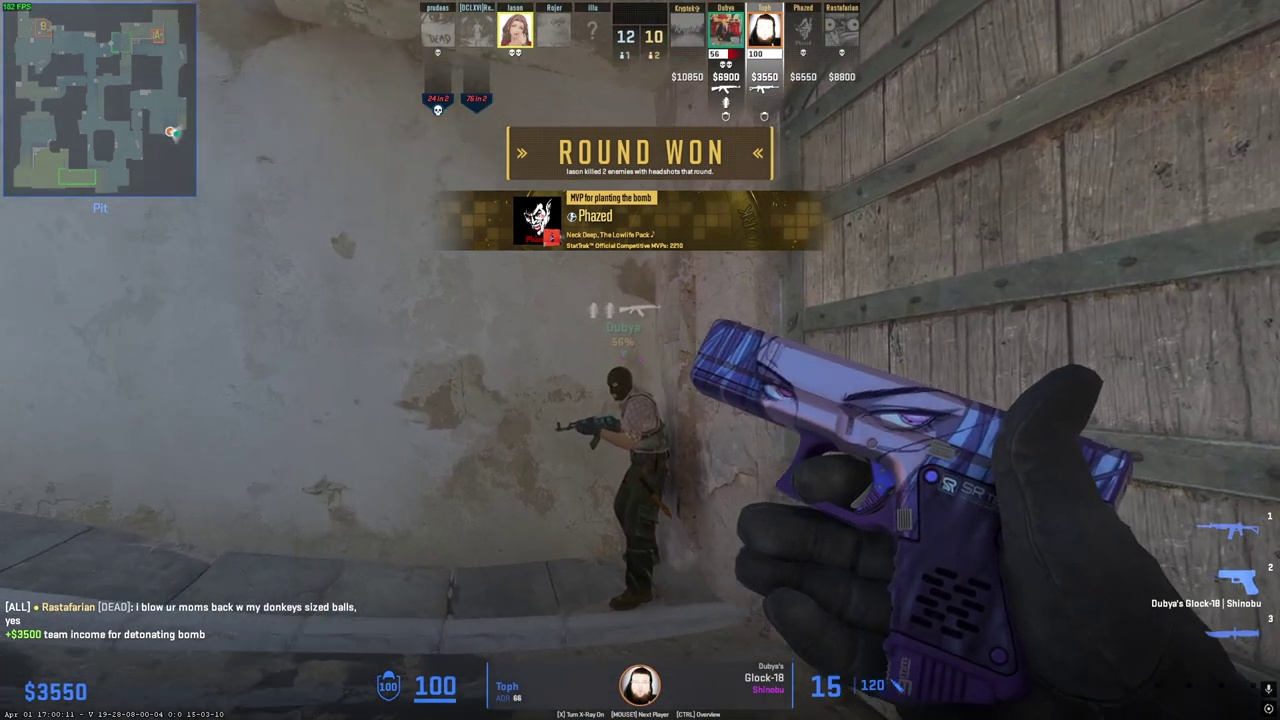Terrorist: (599, 366, 672, 611)
